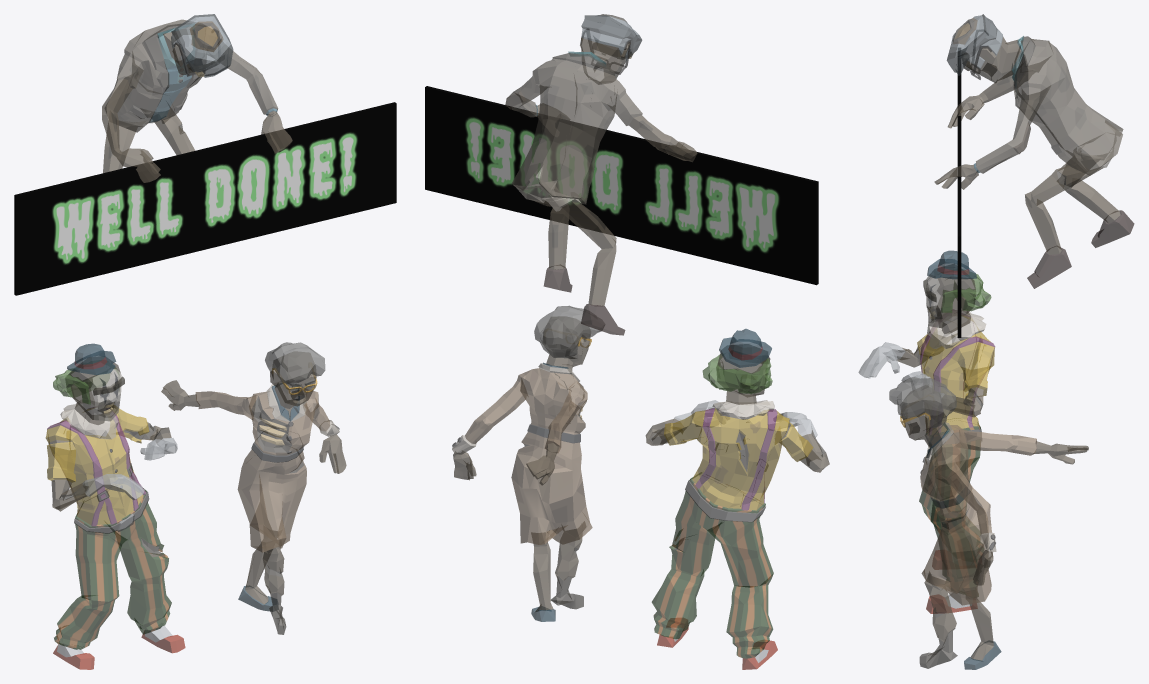
Rendered from outro.7.guide.glb.
3 renders of one model, left to right at view 1: azimuth 30°, elevation 25°; view 2: azimuth 150°, elevation 25°; view 3: azimuth 270°, elevation 25°, orthographic. The views are drawn at different scales.
Parts seen in each view (by area): view 1: welldonebanner, Zombie_Clown_Male_01.005, Zombie_Grandma_Female_01.007, Zombie_Grandpa_Male_01.005; view 2: welldonebanner, Zombie_Clown_Male_01.005, Zombie_Grandpa_Male_01.005, Zombie_Grandma_Female_01.007; view 3: Zombie_Grandpa_Male_01.005, Zombie_Clown_Male_01.005, Zombie_Grandma_Female_01.007, welldonebanner.
Part boxes in pixels (x1,y1,x2,y2): welldonebanner: (14, 102, 396, 295); Zombie_Clown_Male_01.005: (45, 343, 185, 669); Zombie_Grandma_Female_01.007: (161, 342, 346, 634); Zombie_Grandpa_Male_01.005: (102, 14, 292, 182); welldonebanner: (425, 86, 818, 285); Zombie_Clown_Male_01.005: (645, 328, 829, 669); Zombie_Grandpa_Male_01.005: (505, 14, 697, 335); Zombie_Grandma_Female_01.007: (452, 305, 604, 621); Zombie_Grandpa_Male_01.005: (934, 14, 1134, 288); Zombie_Clown_Male_01.005: (858, 250, 995, 613); Zombie_Grandma_Female_01.007: (889, 377, 1088, 669); welldonebanner: (957, 48, 961, 337).
Size of the model in its own units: 2.26 by 3.46 by 1.39.
2 materials, 2 textured.
